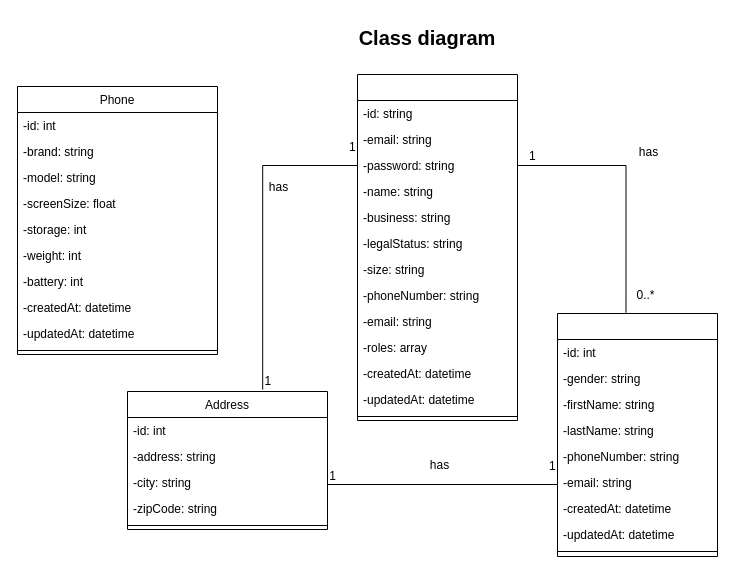
Some shapes in this 735 by 574 pixel diagram are drawn without their labels. Each missing label, with the box of its shape:
Customer: (556, 312, 718, 556)
User: (356, 74, 518, 420)
